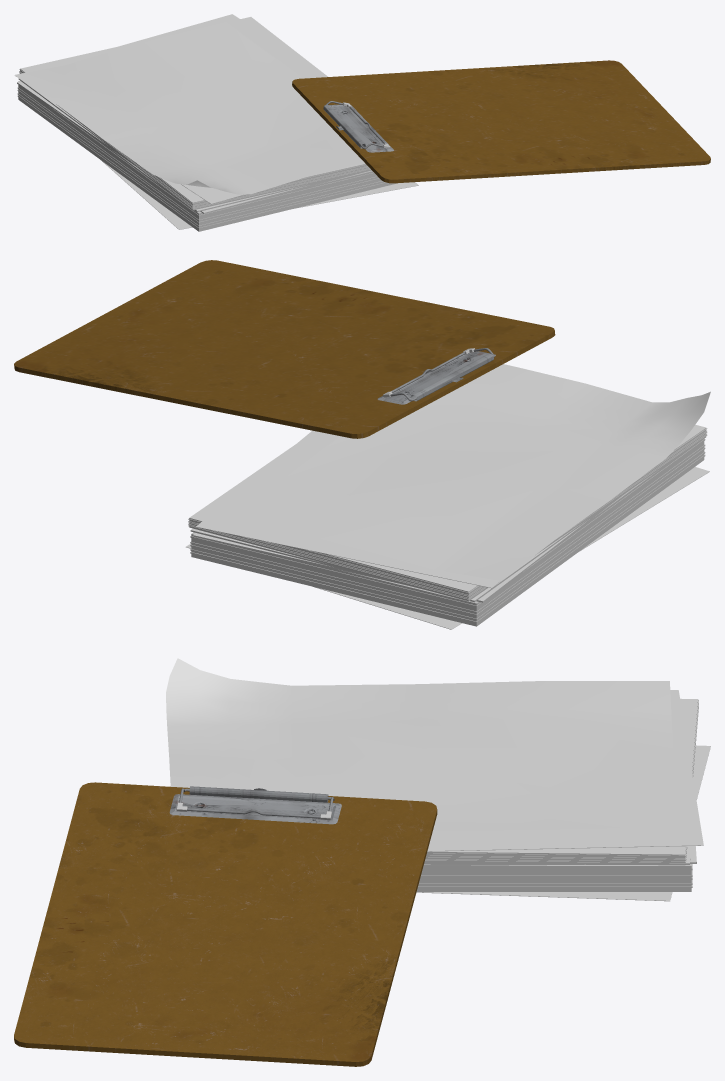
Rendered from draw.fbx.
The picture shows the model from 3 angles, top to bottom: view 1: azimuth 30°, elevation 25°; view 2: azimuth 150°, elevation 25°; view 3: azimuth 270°, elevation 25°; orthographic projection. The views are drawn at different scales.
Parts seen in each view (by area): view 1: Cube.013, 画板夹子; view 2: Cube.013, 画板夹子; view 3: 画板夹子, Cube.013.
Part boxes in pixels (left/top/right/bottom): Cube.013: left=14, top=14, right=418, bottom=231; 画板夹子: left=292, top=60, right=710, bottom=183; Cube.013: left=186, top=364, right=710, bottom=629; 画板夹子: left=14, top=260, right=555, bottom=438; 画板夹子: left=14, top=782, right=437, bottom=1066; Cube.013: left=166, top=658, right=710, bottom=901.
Bounding box in the file's own units: 73.35 × 7.7 × 63.31.
